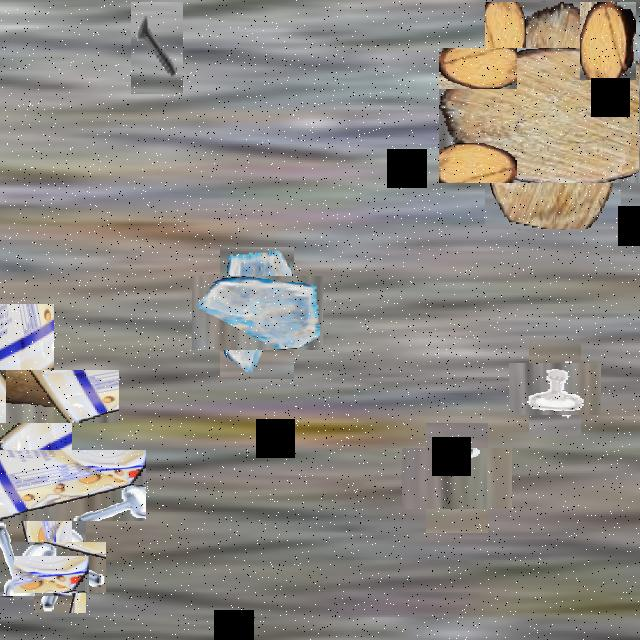glass: (205, 262, 308, 364)
metal: (414, 435, 500, 521), (519, 353, 591, 426), (24, 531, 96, 603), (131, 2, 183, 94)
plastic: (0, 412, 109, 558)
wood: (462, 24, 640, 206), (0, 336, 86, 456), (580, 2, 636, 80)
